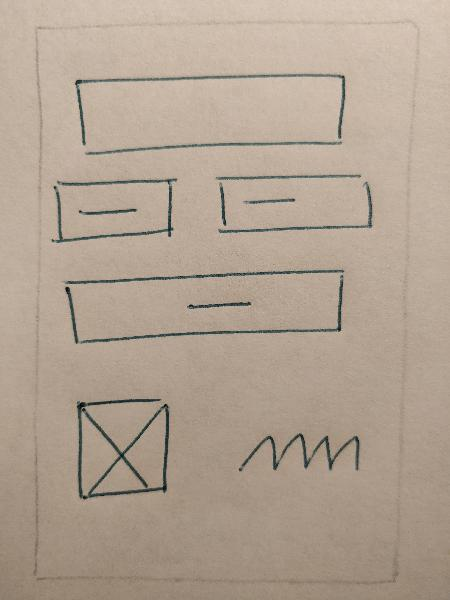button: (56, 264, 361, 348), (209, 169, 379, 240), (47, 172, 180, 251)
image: (64, 392, 175, 504)
text: (230, 426, 366, 480)
text_input: (61, 67, 371, 154)
